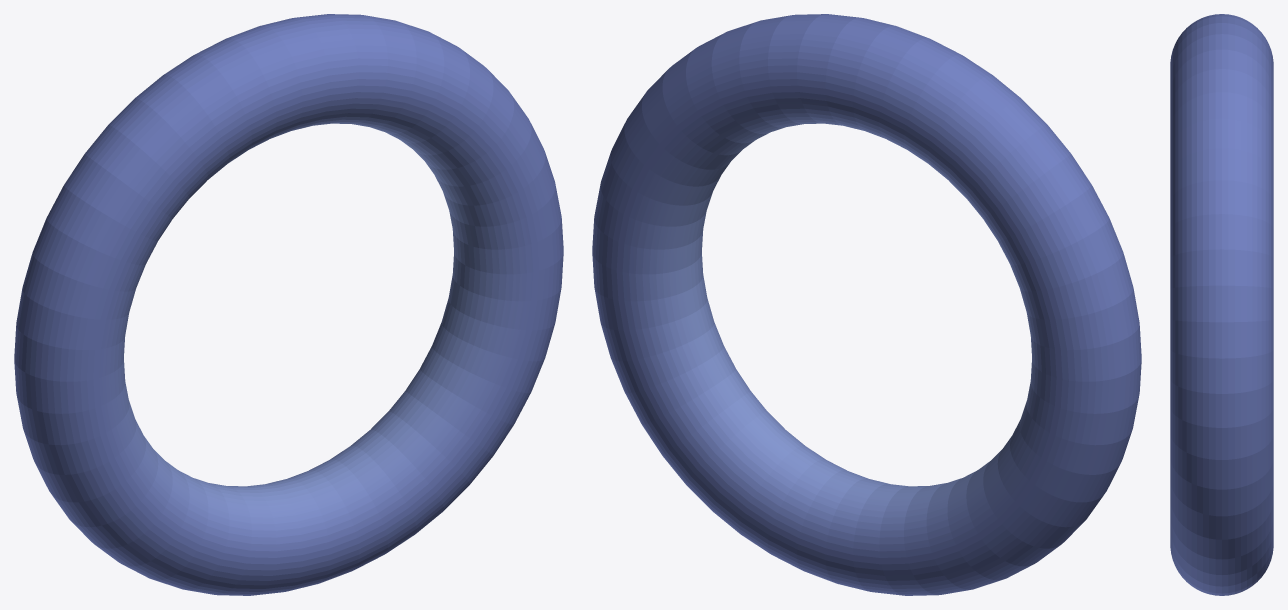
3 renders of one model, left to right at view 1: azimuth 30°, elevation 25°; view 2: azimuth 150°, elevation 25°; view 3: azimuth 270°, elevation 25°, orthographic. The views are drawn at different scales.
Parts seen in each view (by area): view 1: world; view 2: world; view 3: world.
Boxes of the visible parts, left/top/right/bottom form: world: left=14, top=14, right=563, bottom=595; world: left=592, top=14, right=1141, bottom=595; world: left=1170, top=14, right=1273, bottom=595.
Bounding box in the file's own units: 20.27 × 20.23 × 3.59.
